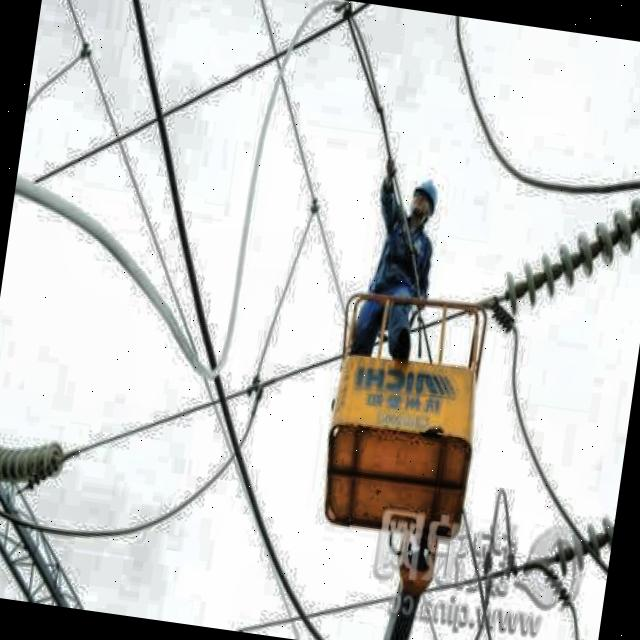helmet: (403, 173, 445, 233)
